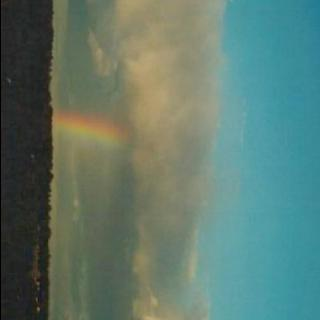Stratocumulus: (38, 0, 320, 320)
